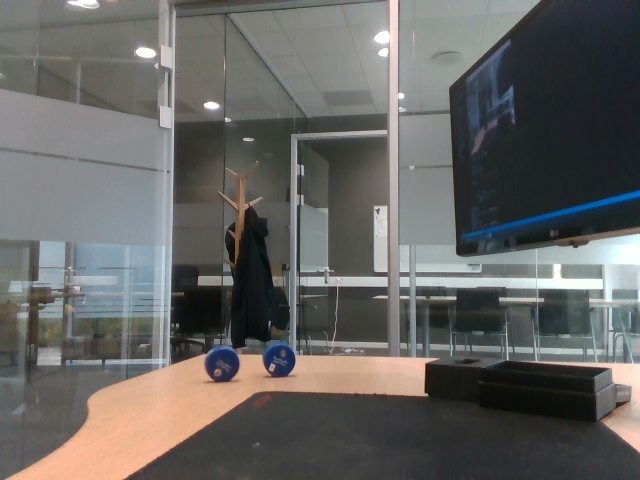alfa: (201, 342, 242, 388), (262, 338, 298, 381)
